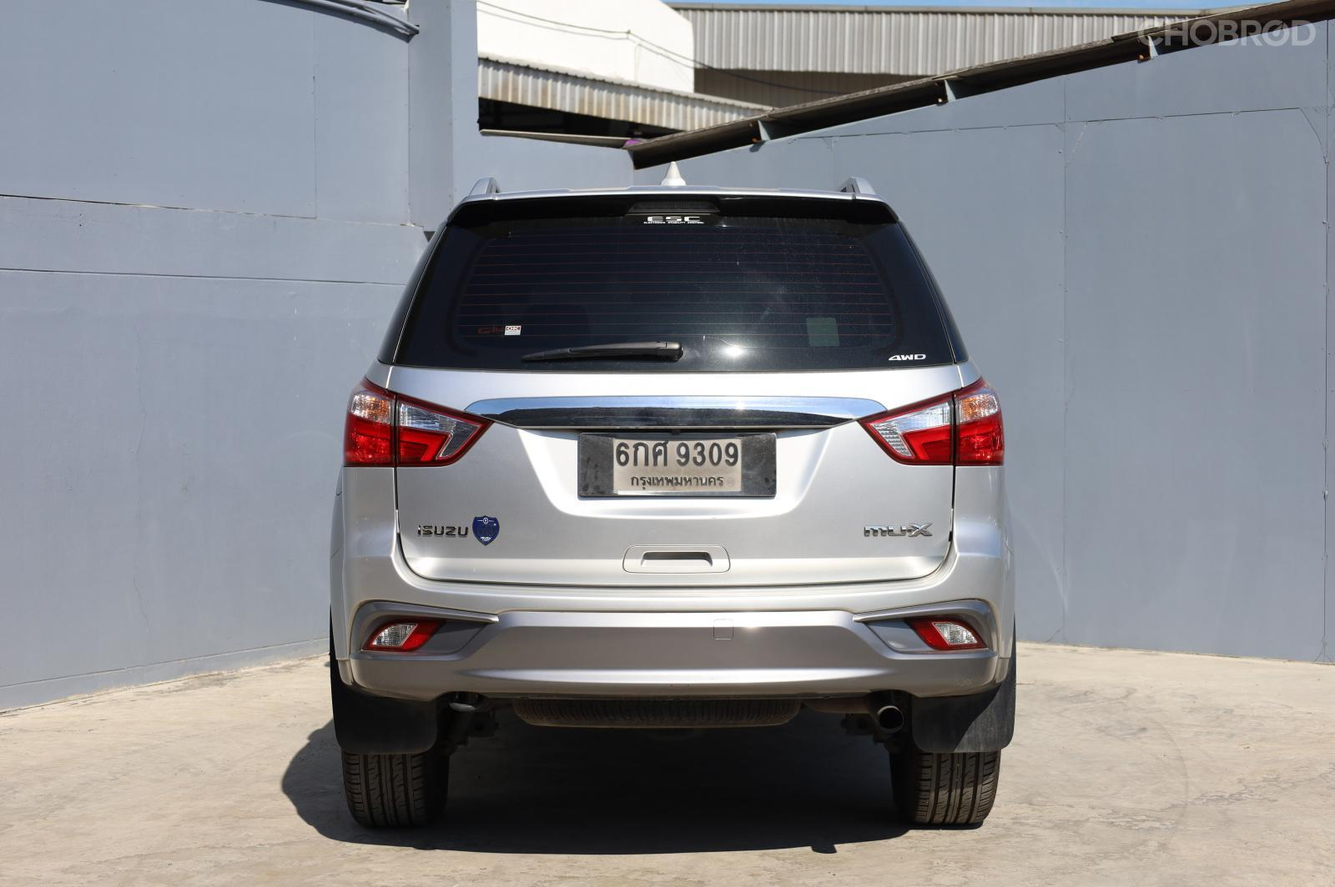license-plate: (608, 430, 744, 496)
